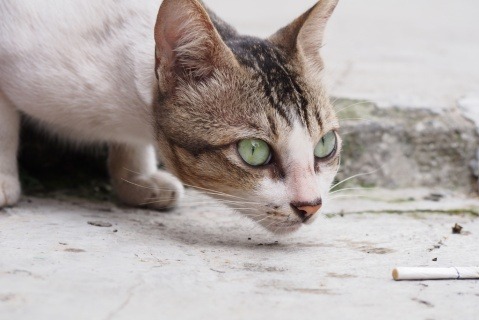Cat: (0, 0, 383, 236)
